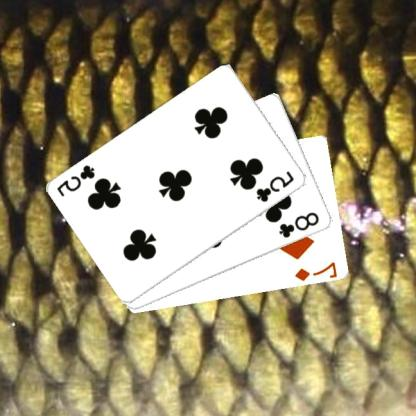5C: (255, 168, 298, 204), (56, 162, 99, 198)
7D: (294, 260, 340, 282)
8C: (278, 210, 323, 240)
